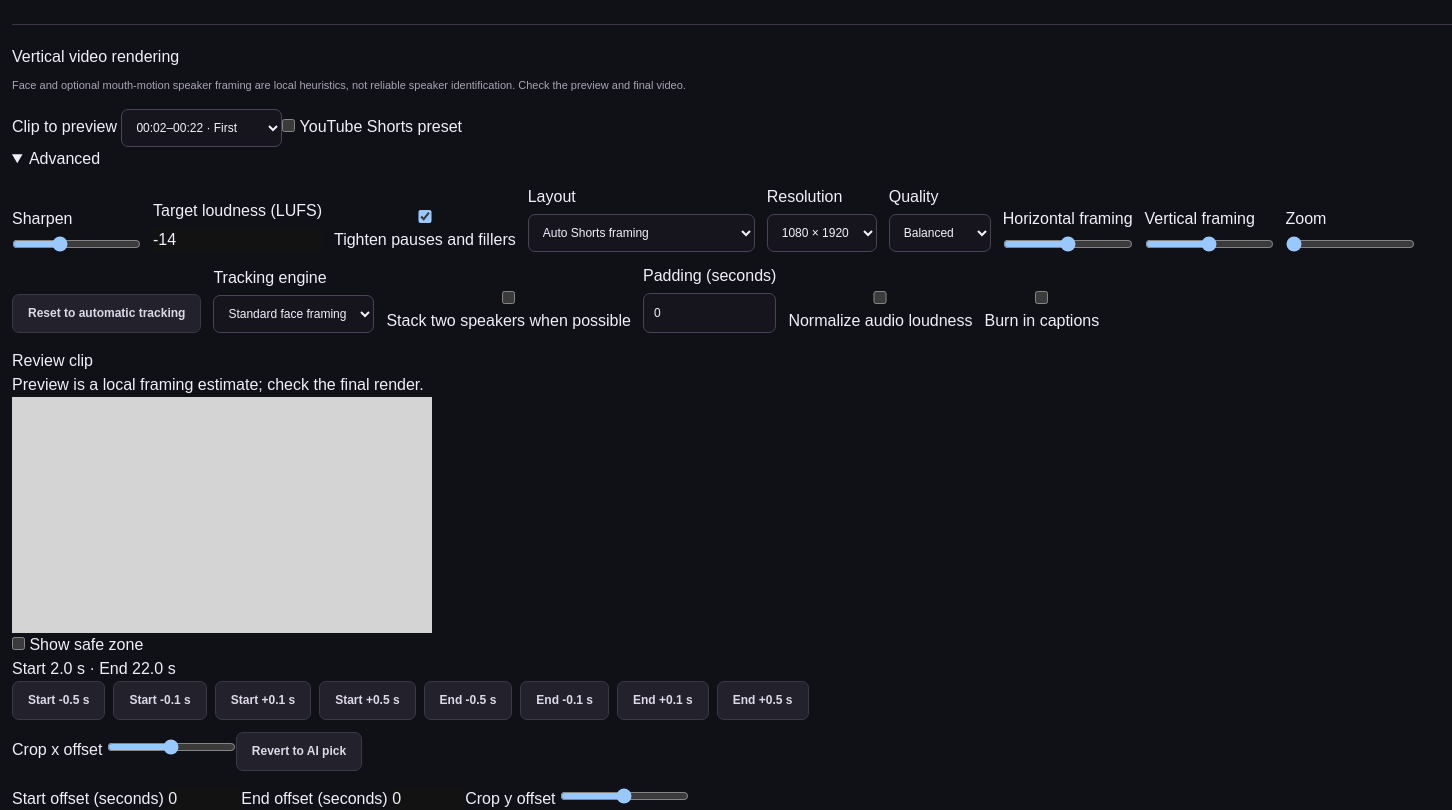
Test case: configures cinematic bars and validates colour before submitting
Later steps or results of the test are not shown.
Select "Cinematic bars" in the dropdown labelled "Layout" at coordinates (641, 233), box [528,214,755,252]
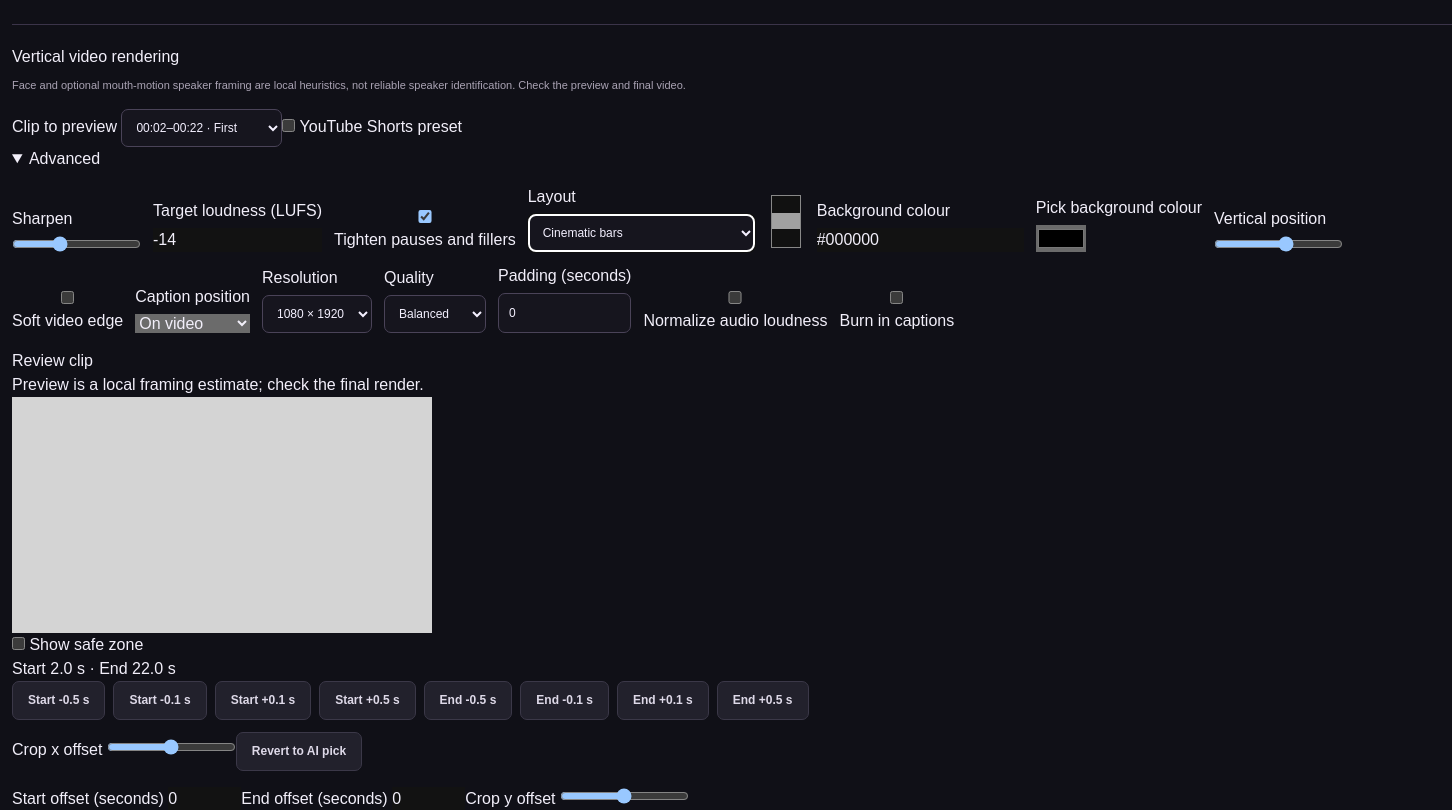
expect the picture named "Cinematic bars schematic" is shown: met, box [771,195,801,248]
expect the dropdown labelled "Caption position" shows "On video": met, box [135,314,250,333]
Type "red" into the field labelled "Background colour" at coordinates (920, 240), box [817,228,1024,252]
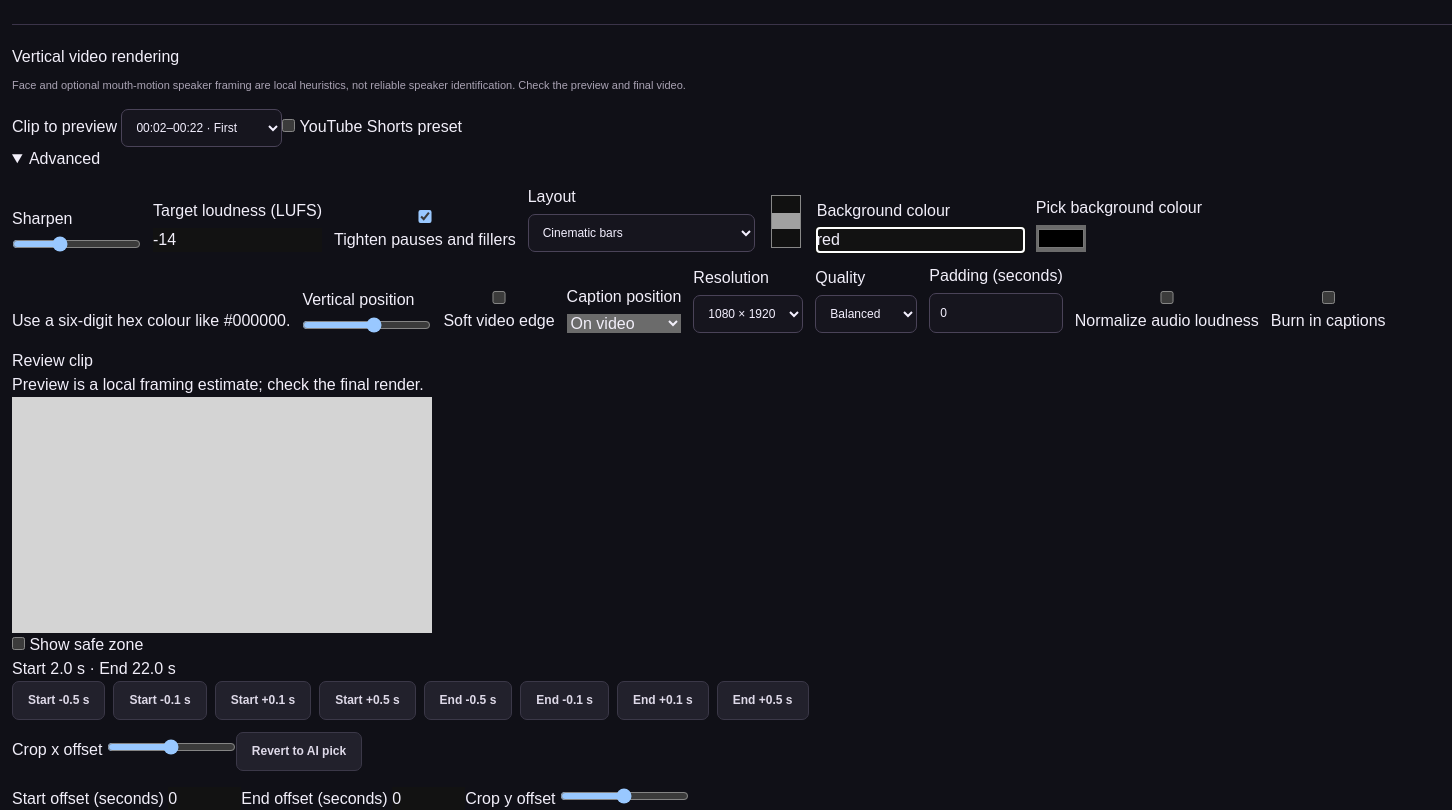
expect the message shows "six-digit hex": met, box [12,312,290,329]
